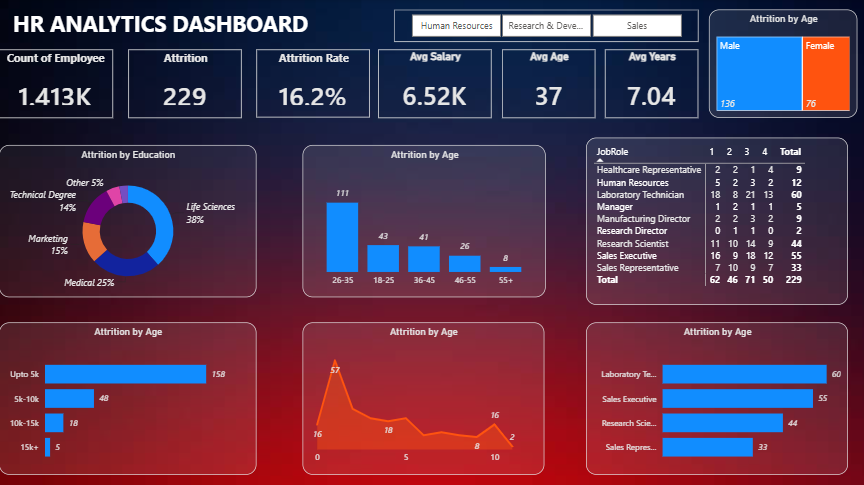

This screenshot's page, from the dashboard's own definition file:
{"tool":"powerbi","page":{"name":"Page 1","canvas":[1280,720],"ordinal":0},"visuals":[{"type":"cardVisual","title":"Count of Employee","fields":{"Data":["CountNonNull(HR_Analytics.EmpID)"]},"box":[10.3,83.9,179.7,100.8],"z":0},{"type":"cardVisual","title":"Avg Salary","fields":{"Data":["Avg(HR_Analytics.MonthlyIncome)"]},"box":[569.5,83.9,166.8,100.8],"z":1000},{"type":"cardVisual","title":"Attrition Rate","fields":{"Data":["HR_Analytics.Attrition Rate"]},"box":[388,83.9,166.8,100.8],"z":2000},{"type":"cardVisual","title":"Avg Age ","fields":{"Data":["HR_Analytics.Avg Age"]},"box":[749.2,83.9,137.5,100.8],"z":3000},{"type":"cardVisual","title":"Attrition","fields":{"Data":["Sum(HR_Analytics.AttritionCount)"]},"box":[206.5,83.9,166.8,100.8],"z":4000},{"type":"cardVisual","title":"Avg Years","fields":{"Data":["Avg(HR_Analytics.YearsAtCompany)"]},"box":[899.5,83.9,137.5,100.8],"z":5000},{"type":"donutChart","title":"Attrition by Education","fields":{"Category":["HR_Analytics.EducationField"],"Y":["CountNonNull(HR_Analytics.Attrition)"]},"box":[28.8,204.6,354.8,248.3],"z":6000},{"type":"columnChart","title":"Attrition by Age","fields":{"Category":["HR_Analytics.AgeGroup"],"Y":["CountNonNull(HR_Analytics.Attrition)"]},"box":[394.9,205.2,354.8,248.3],"z":7000},{"type":"pivotTable","fields":{"Rows":["HR_Analytics.JobRole"],"Columns":["HR_Analytics.JobSatisfaction"],"Values":["Sum(HR_Analytics.AttritionCount)"]},"box":[771.3,205.2,345.5,248.3],"z":8000}]}

Visuals, with their boxes in screenshot pixels (x1, y1, x2, y2), scaled from the page's 1280x720 canvas onto the 864x485 screenshot:
"Count of Employee" cardVisual: 7:57:128:124
"Avg Salary" cardVisual: 384:57:497:124
"Attrition Rate" cardVisual: 262:57:374:124
"Avg Age " cardVisual: 506:57:599:124
"Attrition" cardVisual: 139:57:252:124
"Avg Years" cardVisual: 607:57:700:124
"Attrition by Education" donutChart: 19:138:259:305
"Attrition by Age" columnChart: 267:138:506:305
pivotTable - HR_Analytics.JobRole x HR_Analytics.JobSatisfaction: 521:138:754:305
